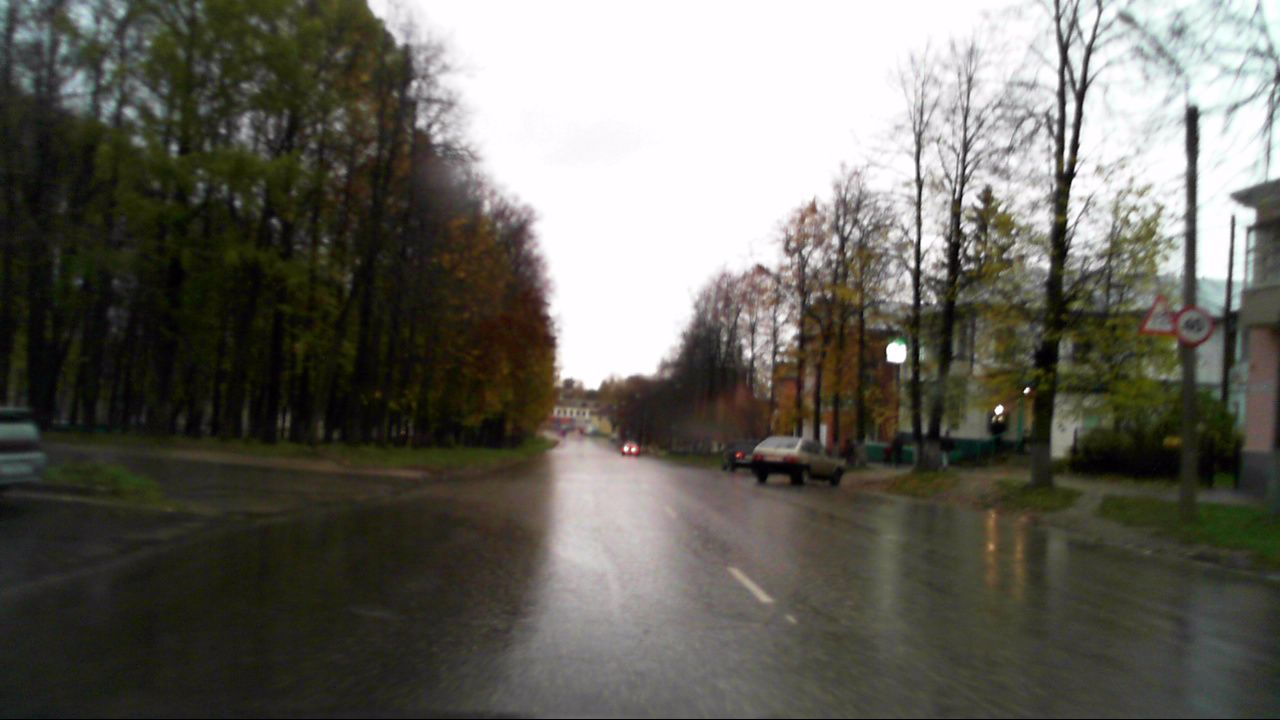speed_warning_40: (1173, 305, 1214, 347)
